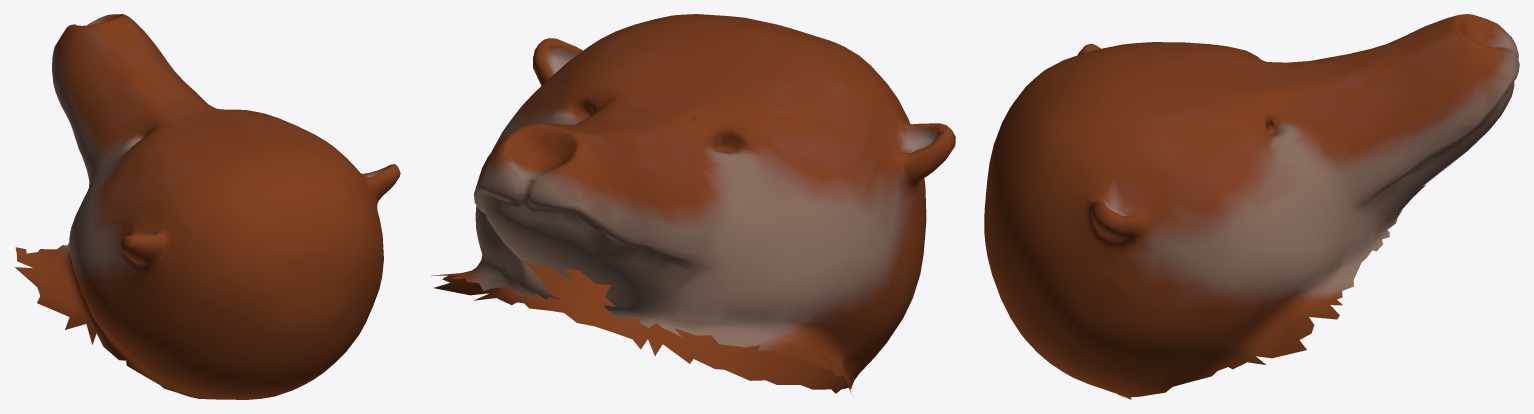
File: sculpture_15.glb
3 views of the same model, side by side, from view 1: azimuth 30°, elevation 25°; view 2: azimuth 150°, elevation 25°; view 3: azimuth 270°, elevation 25° (orthographic). The views are drawn at different scales.
Parts seen in each view (by area): view 1: SCL_01_07; view 2: SCL_01_07; view 3: SCL_01_07.
Part boxes in pixels (x1,y1,x2,y2): SCL_01_07: [14, 14, 400, 399]; SCL_01_07: [431, 14, 955, 393]; SCL_01_07: [984, 14, 1519, 399].
Bounding box in the file's own units: 0.4079 × 0.363 × 0.5094.
